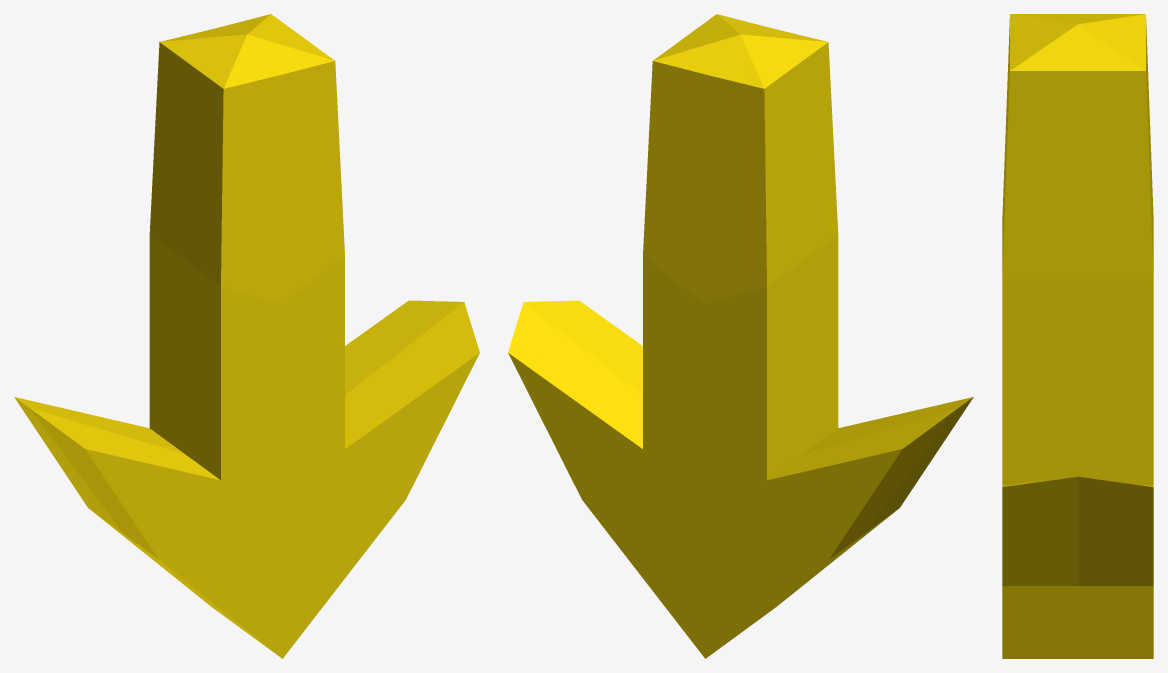
Rendered from Arrow.obj.
3 renders of one model, left to right at view 1: azimuth 30°, elevation 25°; view 2: azimuth 150°, elevation 25°; view 3: azimuth 270°, elevation 25°, orthographic. The views are drawn at different scales.
Visible parts, largest first — view 1: Cube_Cube.002; view 2: Cube_Cube.002; view 3: Cube_Cube.002.
Part boxes in pixels (x1=…): Cube_Cube.002: x1=14, y1=14, x2=479, y2=658; Cube_Cube.002: x1=508, y1=14, x2=973, y2=658; Cube_Cube.002: x1=1002, y1=14, x2=1153, y2=658.
Size of the model in its own units: 1.17 by 1.55 by 0.3333.
